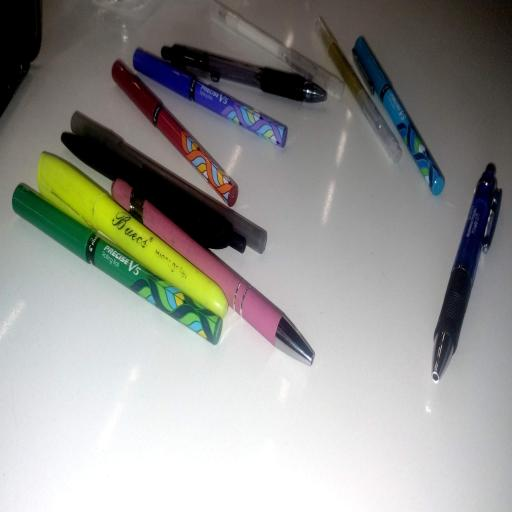pen: (112, 180, 314, 365), (12, 185, 222, 344), (38, 153, 227, 318), (71, 112, 267, 253), (61, 133, 245, 252), (112, 60, 238, 206), (133, 49, 287, 147), (432, 164, 501, 381), (353, 37, 444, 195), (211, 0, 344, 98), (314, 17, 402, 163), (161, 45, 326, 102)
